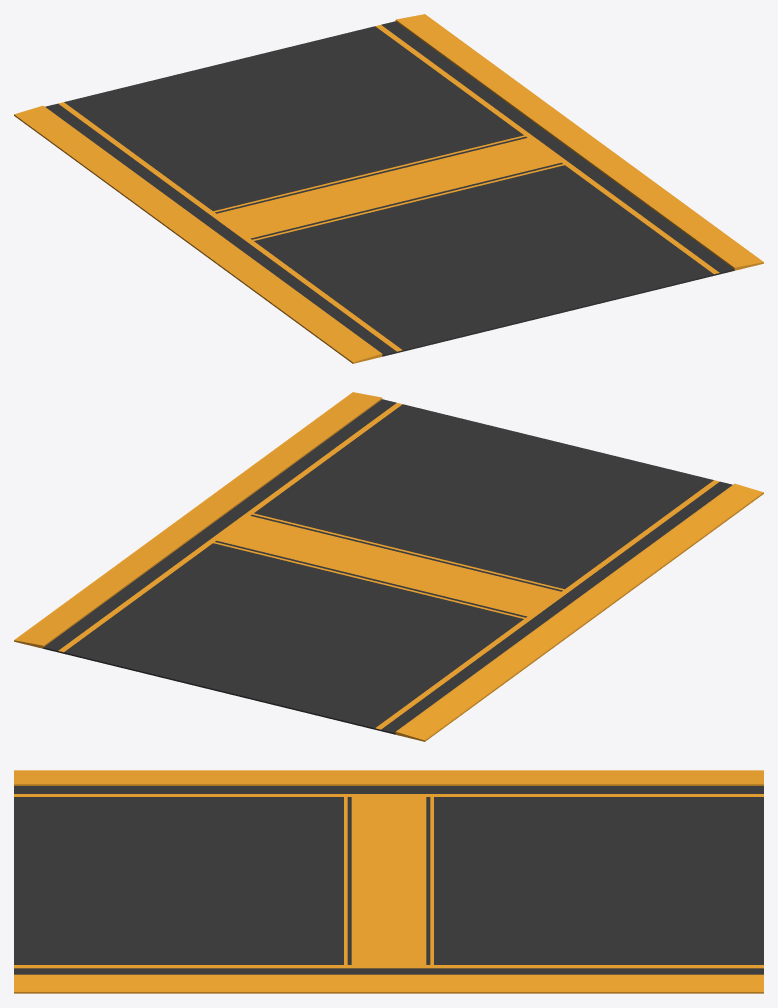
File: SM_Racetrack_RunOff_Straight_Start_20x20m.fbx
3 views of the same model, one above another, from view 1: azimuth 30°, elevation 25°; view 2: azimuth 150°, elevation 25°; view 3: azimuth 270°, elevation 25° (orthographic). The views are drawn at different scales.
Visible parts, largest first — view 1: SM_Racetrack_RunOff_Straight_Start_20x20m; view 2: SM_Racetrack_RunOff_Straight_Start_20x20m; view 3: SM_Racetrack_RunOff_Straight_Start_20x20m.
Part boxes in pixels (box(x1,y1,x2,y2)): SM_Racetrack_RunOff_Straight_Start_20x20m: box(14, 14, 763, 363); SM_Racetrack_RunOff_Straight_Start_20x20m: box(14, 392, 763, 741); SM_Racetrack_RunOff_Straight_Start_20x20m: box(14, 770, 763, 993).
Size of the model in its own units: 14 by 0.1 by 20.
